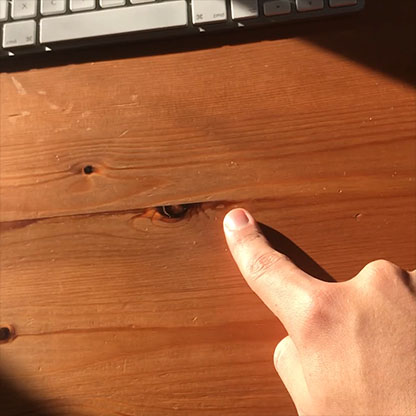fingertip: (220, 207, 259, 238)
